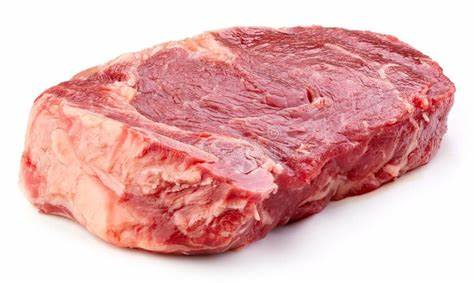Beef: (11, 11, 463, 273)
